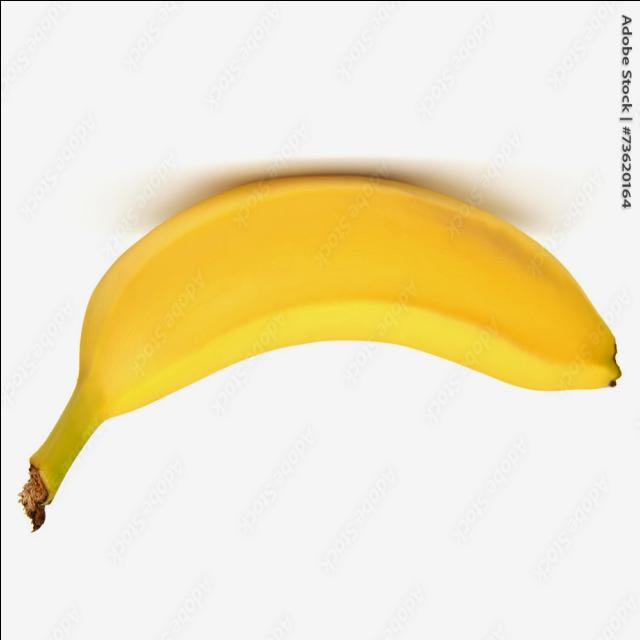non_orange: (16, 168, 624, 534)
